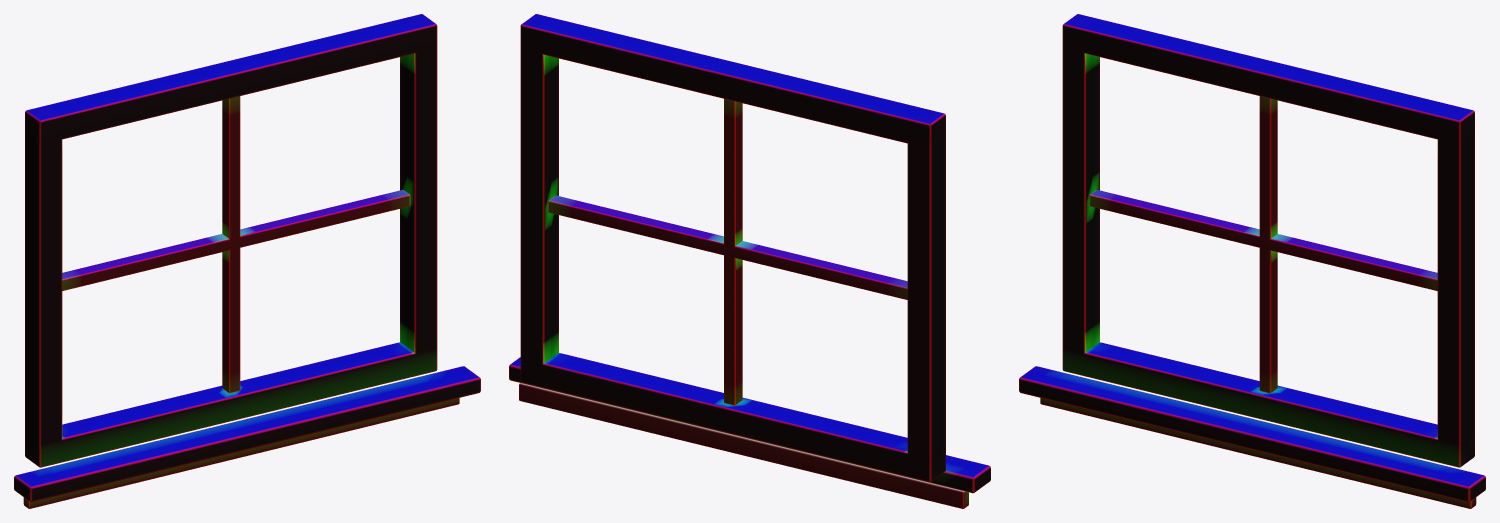
Rendered from prop_window_frame.fbx.
The picture shows the model from 3 angles, left to right: view 1: azimuth 30°, elevation 25°; view 2: azimuth 150°, elevation 25°; view 3: azimuth 330°, elevation 25°; orthographic projection. The views are drawn at different scales.
Parts seen in each view (by area): view 1: prop_window_frame; view 2: prop_window_frame; view 3: prop_window_frame.
Boxes of the visible parts, x1,y1,x2,y2 form: prop_window_frame: (14,14,480,508); prop_window_frame: (509,14,990,508); prop_window_frame: (1019,14,1485,508).
Size of the model in its own units: 1.36 by 1.1 by 0.17.
